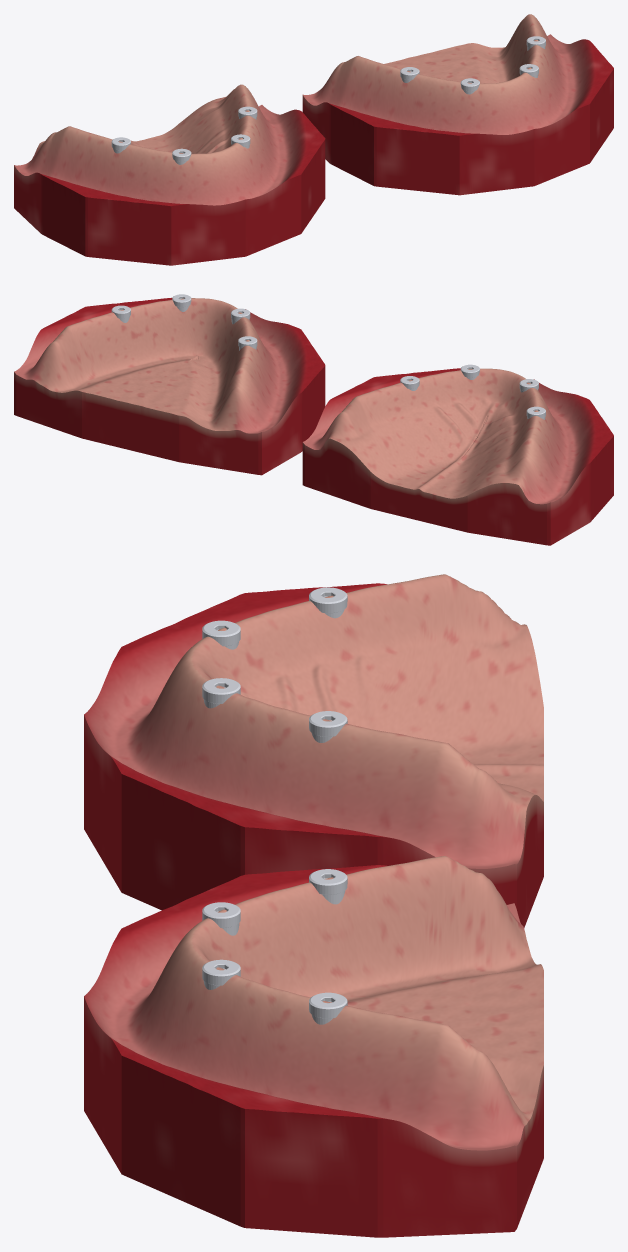
The model's file is estudo-implante.glb.
3 renders of one model, top to bottom at view 1: azimuth 30°, elevation 25°; view 2: azimuth 150°, elevation 25°; view 3: azimuth 270°, elevation 25°, orthographic. The views are drawn at different scales.
Parts seen in each view (by area): view 1: Base_Inferior, Base_Superior; view 2: Base_Superior, Base_Inferior; view 3: Base_Inferior, Base_Superior, Analogo_Inferior_2, Analogo_Superior_11, Analogo_Inferior_11, Analogo_Superior_2, Analogo_Inferior_5.
Boxes of the visible parts, left/top/right/bottom form: Base_Inferior: left=302, top=14, right=613, bottom=195; Base_Superior: left=14, top=84, right=325, bottom=265; Base_Superior: left=302, top=368, right=613, bottom=545; Base_Inferior: left=14, top=297, right=325, bottom=475; Base_Inferior: left=84, top=856, right=543, bottom=1237; Base_Superior: left=84, top=574, right=543, bottom=927; Analogo_Inferior_2: left=309, top=869, right=347, bottom=904; Analogo_Superior_11: left=309, top=711, right=347, bottom=742; Analogo_Inferior_11: left=309, top=992, right=347, bottom=1024; Analogo_Superior_2: left=309, top=587, right=347, bottom=618; Analogo_Inferior_5: left=202, top=902, right=240, bottom=935.
Size of the model in its own units: 0.1349 by 0.0203 by 0.049.
